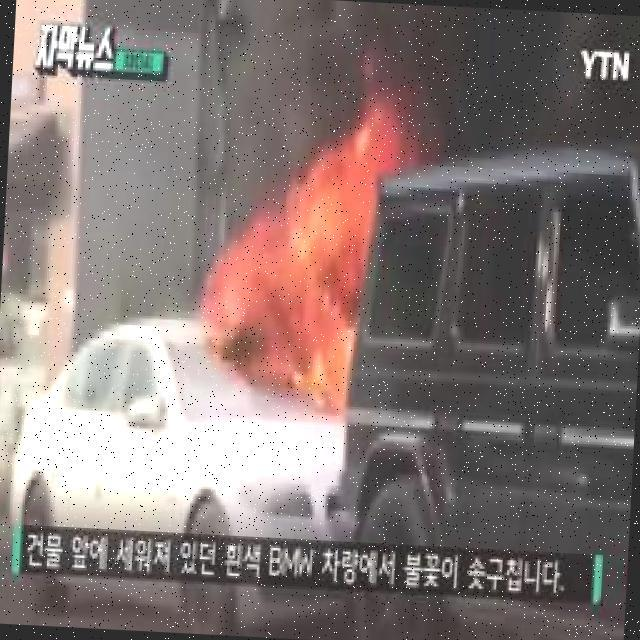Fire: (208, 130, 409, 392)
